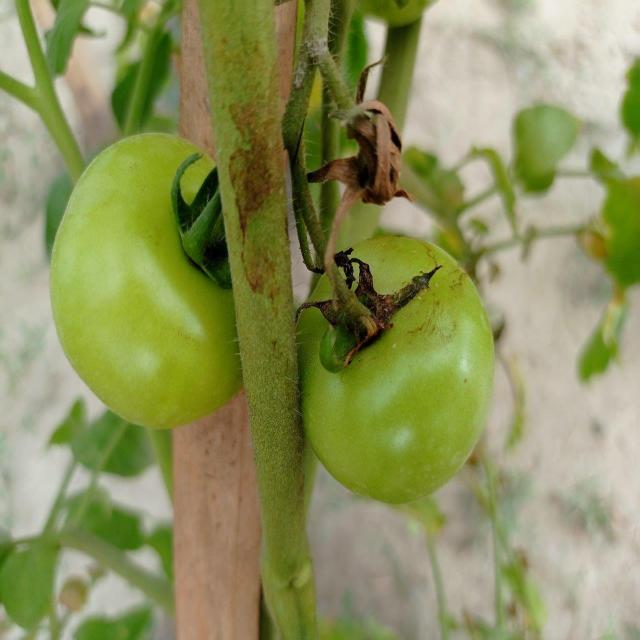Unripe: (46, 129, 249, 431), (302, 230, 496, 507)
